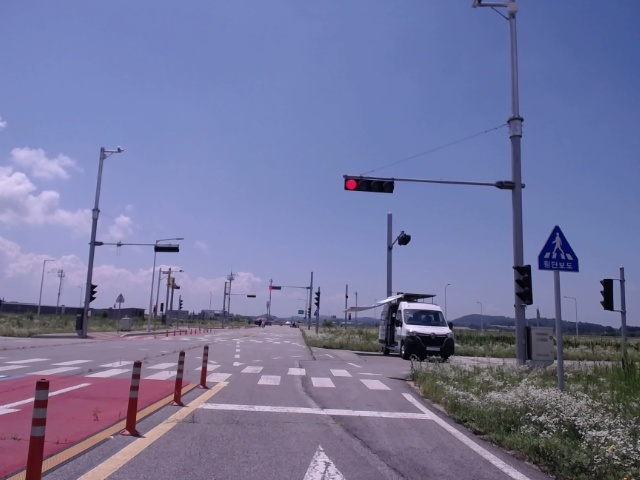red_4: (344, 179, 393, 193)
